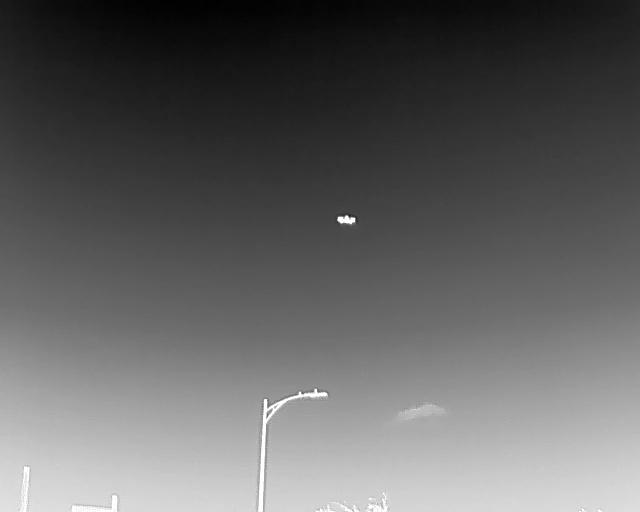fpv-drone: (337, 214, 356, 224)
